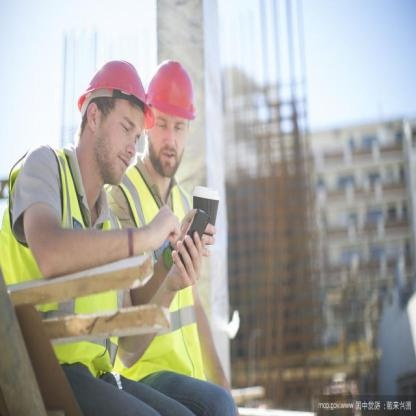red: (73, 54, 156, 134), (146, 56, 206, 123)
vest: (2, 146, 135, 374), (109, 157, 213, 380)
